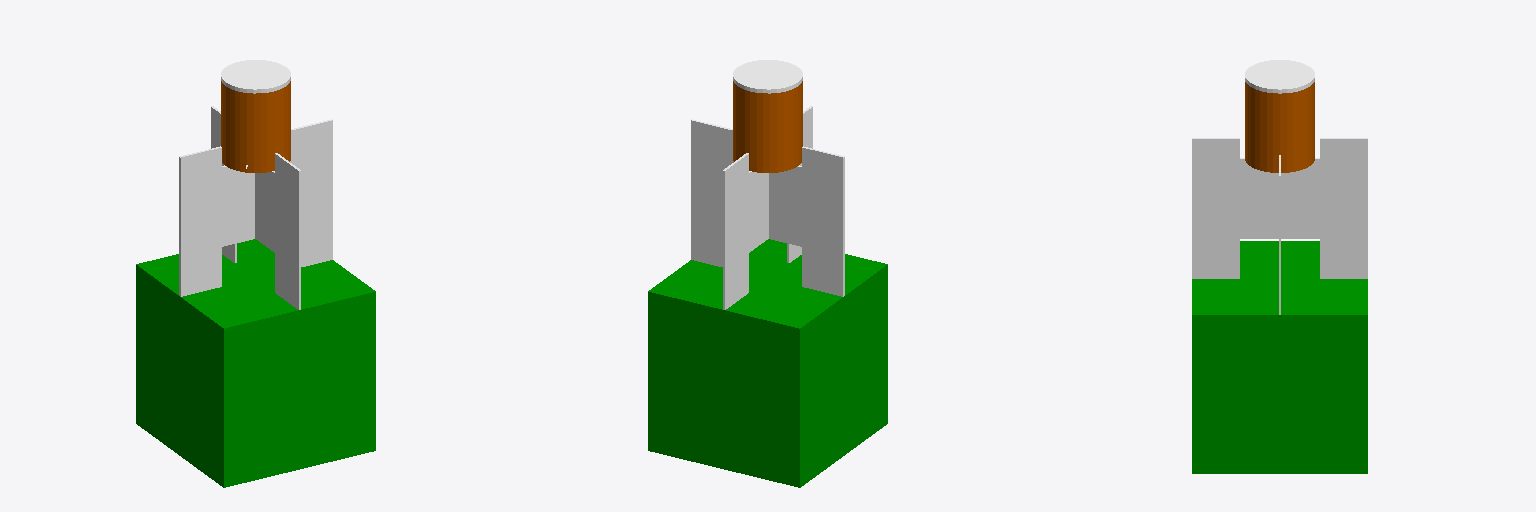
The model's file is CoolerStand.obj.
The picture shows the model from 3 angles: view 1: azimuth 30°, elevation 25°; view 2: azimuth 150°, elevation 25°; view 3: azimuth 270°, elevation 25°; orthographic projection.
Visible parts, largest first — view 1: Cube; view 2: Cube; view 3: Cube.
Part boxes in pixels (bbox=[...]): Cube: bbox=[136, 60, 375, 487]; Cube: bbox=[648, 60, 887, 487]; Cube: bbox=[1192, 60, 1367, 473].
Bounding box in the file's own units: 2 × 4.55 × 2.